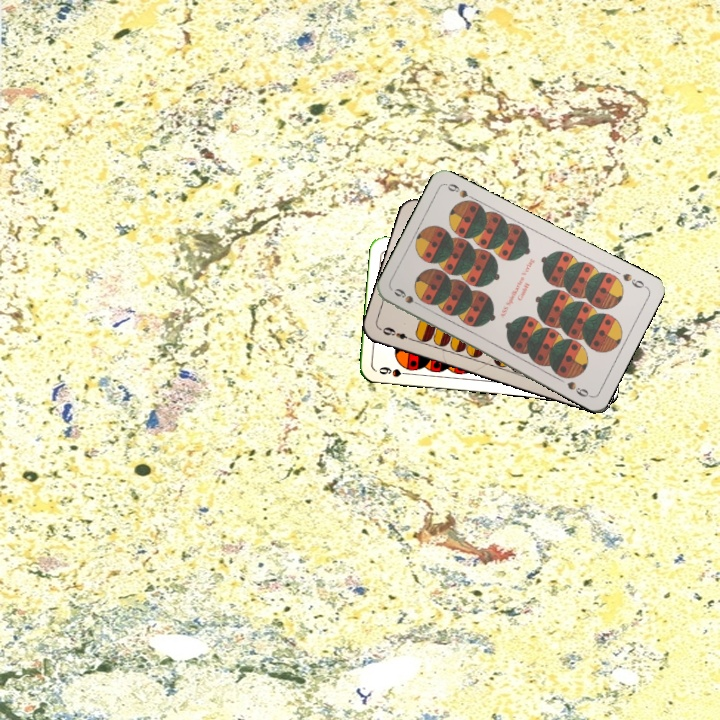E9: (378, 323, 416, 344)
S9: (390, 284, 427, 310), (618, 269, 649, 291), (375, 363, 414, 380)
